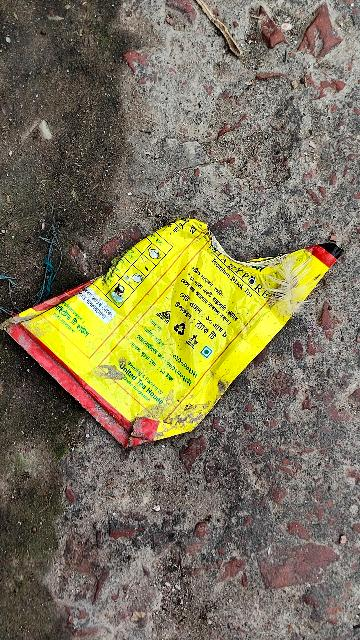packet: (13, 145, 354, 468)
